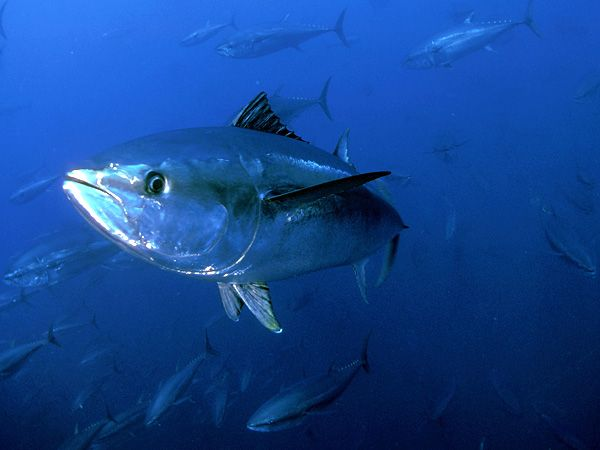Bluefina Tuna: (54, 90, 409, 334)
